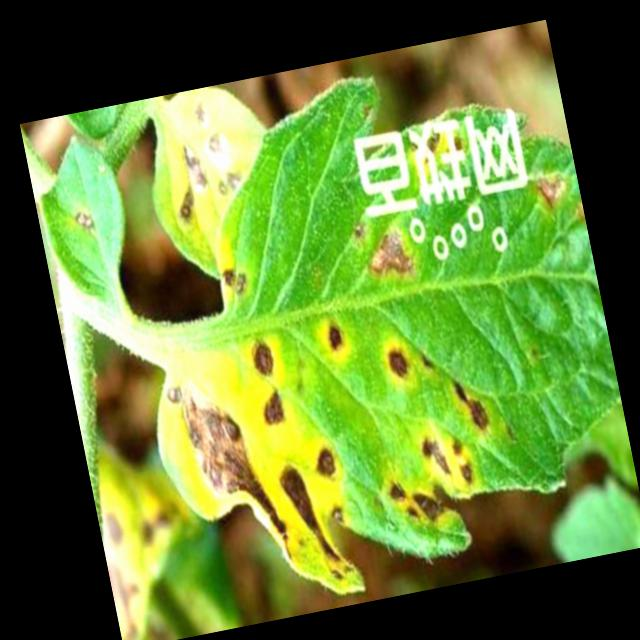Early_blight: (163, 363, 295, 584), (275, 459, 356, 588), (382, 463, 465, 535), (162, 140, 214, 226), (413, 425, 476, 492), (360, 224, 420, 286), (447, 372, 494, 440), (406, 126, 467, 168), (307, 437, 349, 489), (252, 384, 292, 437), (378, 337, 413, 390), (242, 335, 282, 380), (531, 169, 573, 211), (215, 260, 250, 304), (199, 128, 232, 170), (187, 95, 215, 131), (324, 321, 347, 352), (71, 210, 96, 232)
